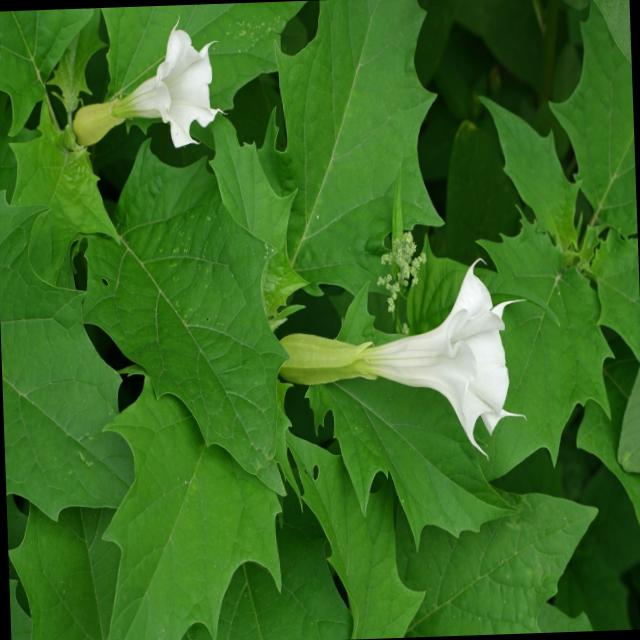Poisonous-Datura_Stramonium: (0, 215, 640, 640), (262, 258, 564, 461), (49, 13, 293, 215)
